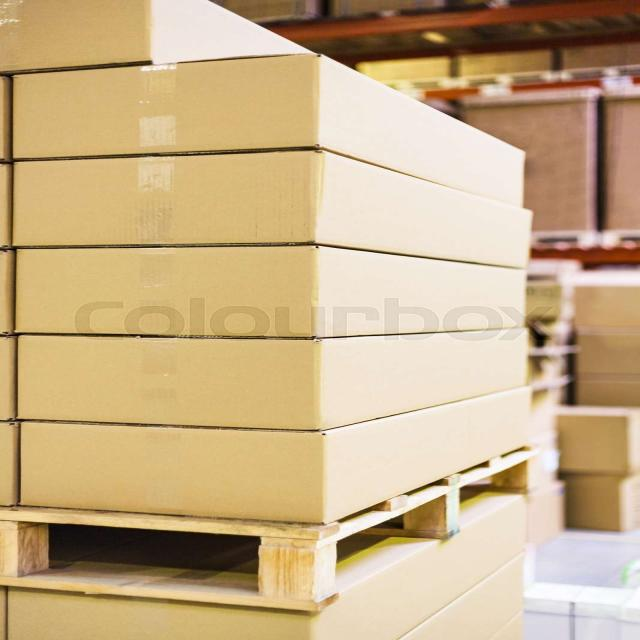box: (9, 71, 568, 196), (22, 422, 612, 533), (17, 158, 560, 264), (19, 337, 570, 423), (13, 250, 550, 336)
